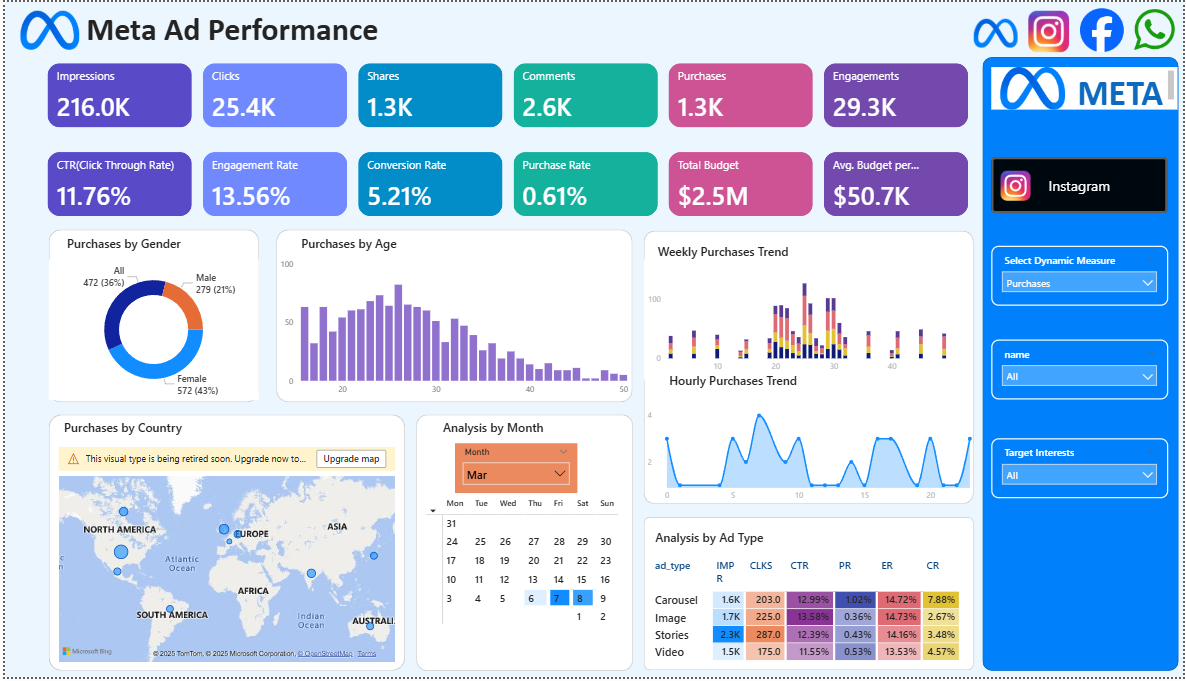

The dashboard page shown, as its layout file describes it:
{"tool":"powerbi","page":{"name":"Instagram","canvas":[1570,900],"ordinal":1},"visuals":[{"type":"textbox","box":[103.6,5.4,426.8,67.9],"z":0},{"type":"image","box":[14.3,12.5,89.3,51.8],"z":1000},{"type":"shape","box":[1302.9,72.9,261.4,818.6],"z":2000},{"type":"cardVisual","fields":{"Data":["ad_events.Impressions","ad_events.Clicks","ad_events.Shares","ad_events.Comments","ad_events.Purchases","ad_events.Engagements"]},"box":[39.3,64.3,1264.3,119.6],"z":3000},{"type":"cardVisual","fields":{"Data":["ad_events.CTR(Click Through Rate)","ad_events.Engagement Rate","ad_events.Conversion Rate","ad_events.Purchase Rate","ad_events.Total Budget","ad_events.Avg. Budget per Campaign"]},"box":[39.3,183.9,1264.3,119.6],"z":4000},{"type":"slicer","fields":{"Values":["Select Dynamic Measure.Select Dynamic Measure"]},"box":[1315.7,324.3,235.7,80],"z":5000},{"type":"shape","box":[58.9,303.6,280.4,230.4],"z":6000},{"type":"donutChart","fields":{"Y":["ad_events.Purchases"],"Category":["ads.target_gender"]},"box":[58.6,342.9,280,187.1],"z":7000},{"type":"card","fields":{"Values":["ad_events.Gender Title"]},"box":[39.3,305.4,237.5,37.5],"z":8000},{"type":"shape","box":[362.5,303.6,475,230.4],"z":9000},{"type":"columnChart","fields":{"Y":["ad_events.Purchases"],"Category":["users.user_age"]},"box":[362.5,335.7,475,198.2],"z":10000},{"type":"card","fields":{"Values":["ad_events.Age Title"]},"box":[339.3,305.4,237.5,37.5],"z":11000},{"type":"shape","box":[58.3,550,475,341.7],"z":12000},{"type":"map","fields":{"Size":["ad_events.Purchases"],"Category":["users.country"]},"box":[66.7,588.3,458.3,296.7],"z":13000},{"type":"card","fields":{"Values":["ad_events.Map Title"]},"box":[38.3,550,238.3,38.3],"z":14000},{"type":"shape","box":[548,550,289,342],"z":15000},{"type":"pivotTable","fields":{"Rows":["Calendar Table.Week Number"],"Columns":["Calendar Table.Day Name"],"Values":["Min(Calendar Table.Day Number)"]},"box":[556.7,655,271.7,218.3],"z":16000},{"type":"slicer","fields":{"Values":["Calendar Table.Month"]},"box":[600,588,163,66],"z":17000},{"type":"card","fields":{"Values":["ad_events.Calendar Title"]},"box":[531,550,239,38],"z":18000},{"type":"shape","box":[851.4,305.7,440,364.3],"z":19000},{"type":"columnChart","fields":{"Y":["ad_events.Purchases"],"Category":["Calendar Table.Week Number"],"Series":["ads.ad_type"]},"box":[851.4,342.9,412.9,160],"z":20000},{"type":"card","fields":{"Values":["ad_events.Weekly Title"]},"box":[838.6,317.1,238.6,37.1],"z":21000},{"type":"areaChart","fields":{"Y":["ad_events.Purchases"],"Category":["ad_events.Event Hour"]},"box":[851.4,534.3,450,140],"z":22000},{"type":"card","fields":{"Values":["ad_events.Hourly Title"]},"box":[851.4,488.6,238.6,37.1],"z":23000},{"type":"shape","box":[851.4,687.1,440,204.3],"z":24000},{"type":"pivotTable","fields":{"Rows":["ads.ad_type"],"Values":["ad_events.Impressions","ad_events.Clicks","ad_events.CTR(Click Through Rate)","ad_events.Purchase Rate","ad_events.Engagement Rate","ad_events.Conversion Rate"]},"box":[857.1,735.7,428.6,150],"z":25000},{"type":"card","fields":{"Values":["ad_events.Matrix Title"]},"box":[820,697.1,238.6,38.6],"z":26000},{"type":"textbox","box":[1425.7,87.1,138.6,57.1],"z":27000},{"type":"image","box":[1315.7,87.1,110,57.1],"z":28000},{"type":"slicer","fields":{"Values":["campaigns.name"]},"box":[1315.7,450,235.7,80],"z":29000},{"type":"slicer","fields":{"Values":["ads.target_interests"]},"box":[1315.7,581.4,235.7,80],"z":30000},{"type":"actionButton","box":[1316.7,205,235,75],"z":31000},{"type":"image","box":[1305,223.3,90,41.7],"z":32000}]}

Visuals, with their boxes in screenshot pixels (x1, y1, x2, y2), scaled from the page's 1570x900 canvas onto the 1186x681 screenshot:
textbox: <region>78, 4, 401, 55</region>
image: <region>11, 9, 78, 49</region>
shape: <region>984, 55, 1182, 675</region>
cardVisual - ad_events.Impressions x ad_events.Clicks: <region>30, 49, 985, 139</region>
cardVisual - ad_events.CTR(Click Through Rate) x ad_events.Engagement Rate: <region>30, 139, 985, 230</region>
slicer - Select Dynamic Measure.Select Dynamic Measure: <region>994, 245, 1172, 306</region>
shape: <region>44, 230, 256, 404</region>
donutChart - ad_events.Purchases x ads.target_gender: <region>44, 259, 256, 401</region>
card - ad_events.Gender Title: <region>30, 231, 209, 259</region>
shape: <region>274, 230, 633, 404</region>
columnChart - ad_events.Purchases x users.user_age: <region>274, 254, 633, 404</region>
card - ad_events.Age Title: <region>256, 231, 436, 259</region>
shape: <region>44, 416, 403, 675</region>
map - ad_events.Purchases x users.country: <region>50, 445, 397, 670</region>
card - ad_events.Map Title: <region>29, 416, 209, 445</region>
shape: <region>414, 416, 632, 675</region>
pivotTable - Calendar Table.Week Number x Calendar Table.Day Name: <region>421, 496, 626, 661</region>
slicer - Calendar Table.Month: <region>453, 445, 576, 495</region>
card - ad_events.Calendar Title: <region>401, 416, 582, 445</region>
shape: <region>643, 231, 976, 507</region>
columnChart - ad_events.Purchases x Calendar Table.Week Number: <region>643, 259, 955, 381</region>
card - ad_events.Weekly Title: <region>633, 240, 814, 268</region>
areaChart - ad_events.Purchases x ad_events.Event Hour: <region>643, 404, 983, 510</region>
card - ad_events.Hourly Title: <region>643, 370, 823, 398</region>
shape: <region>643, 520, 976, 674</region>
pivotTable - ads.ad_type x ad_events.Impressions: <region>647, 557, 971, 670</region>
card - ad_events.Matrix Title: <region>619, 527, 800, 557</region>
textbox: <region>1077, 66, 1182, 109</region>
image: <region>994, 66, 1077, 109</region>
slicer - campaigns.name: <region>994, 340, 1172, 401</region>
slicer - ads.target_interests: <region>994, 440, 1172, 500</region>
actionButton: <region>995, 155, 1172, 212</region>
image: <region>986, 169, 1054, 201</region>
